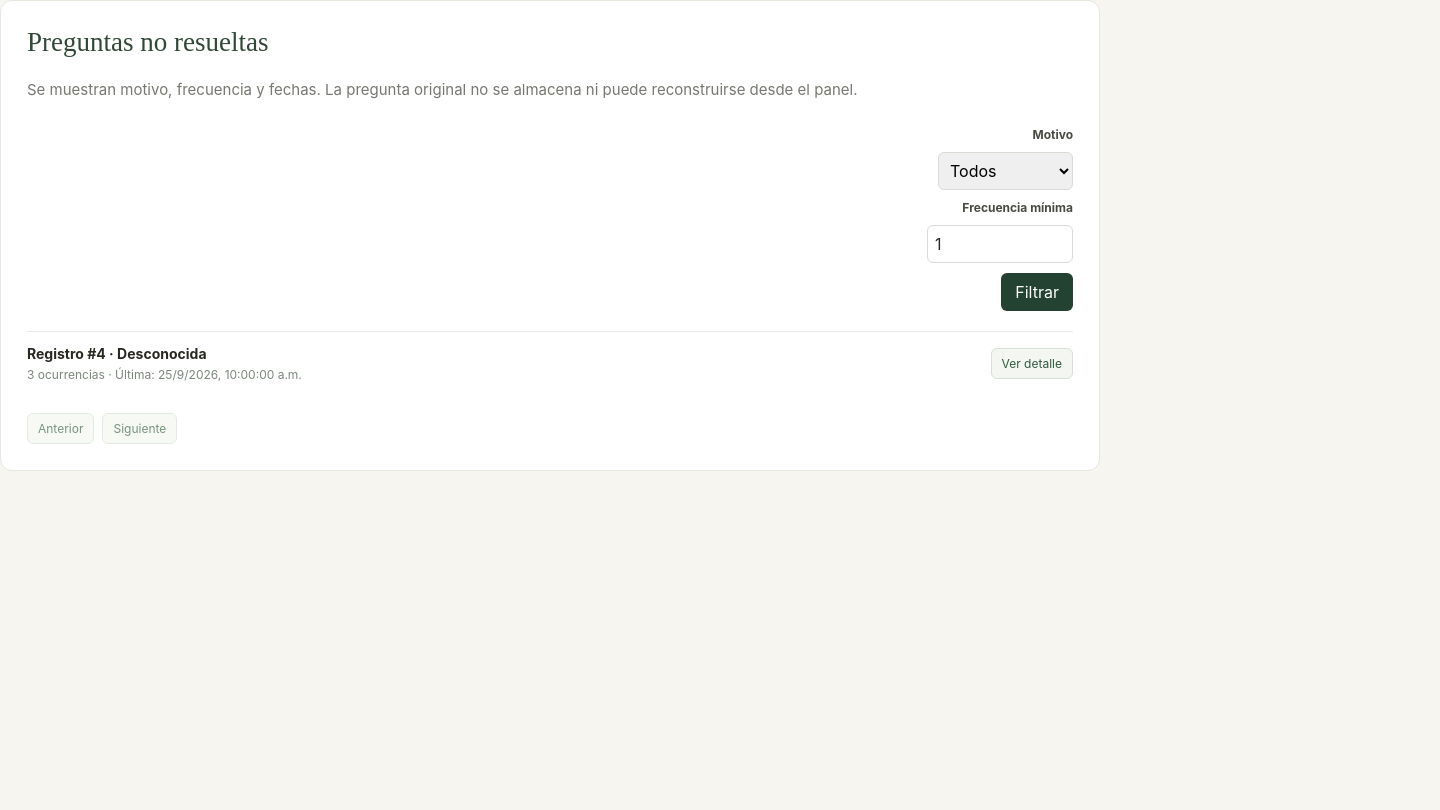
Test: permite resolver una FAQ solo al editor y limpia la pregunta del formulario
The width and height of the screenshot is (1440, 810).
Expected: the text "Registro #4 · Desconocida" is shown, [27, 345, 206, 362]
Click the button "Ver detalle" at (1032, 364), box [991, 348, 1073, 379]
(page scrolled)
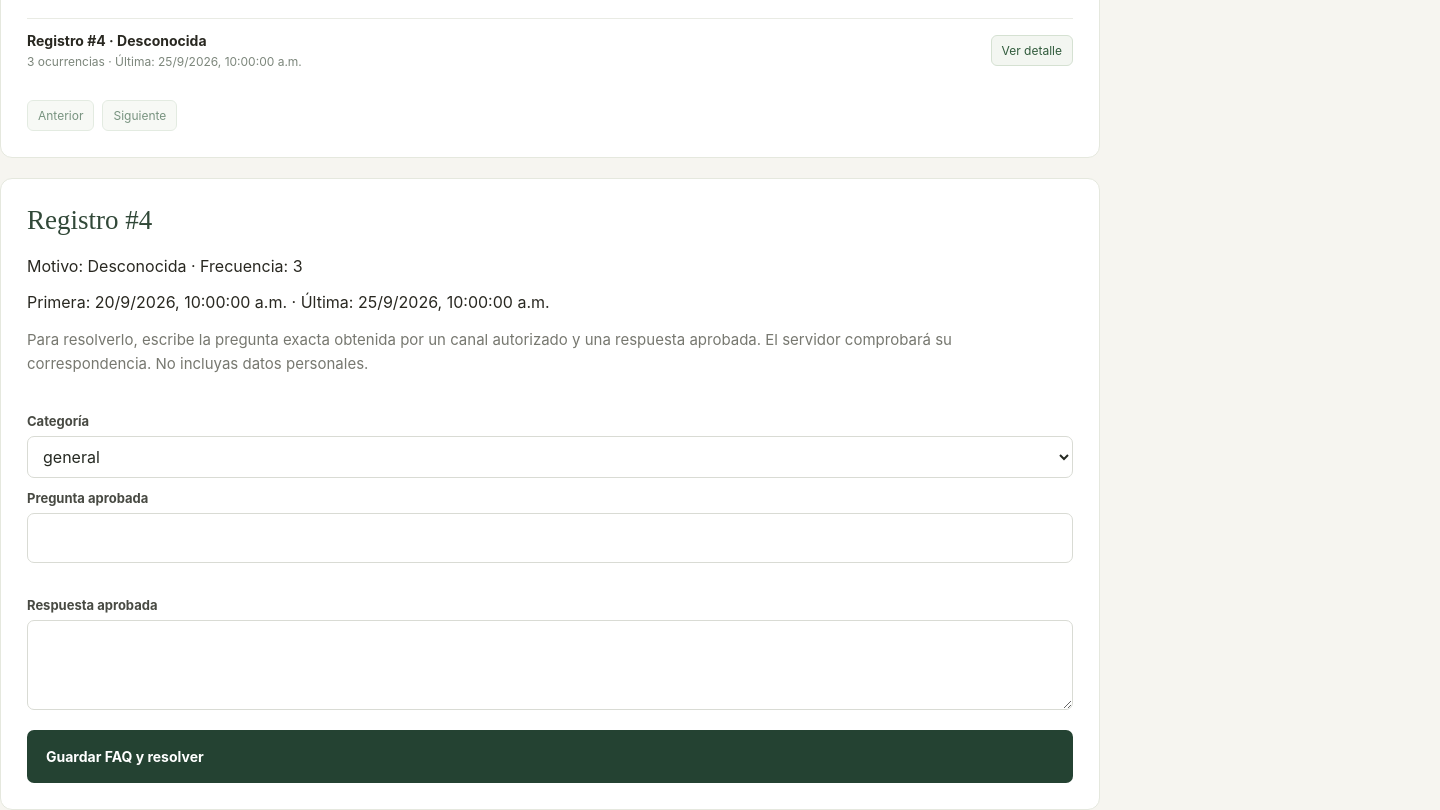
Expected: the button "Guardar FAQ y resolver" is shown, [27, 730, 1073, 783]
Type "¿Aceptan vales?" into the field labelled "Pregunta aprobada" at (550, 538), box [27, 513, 1073, 563]
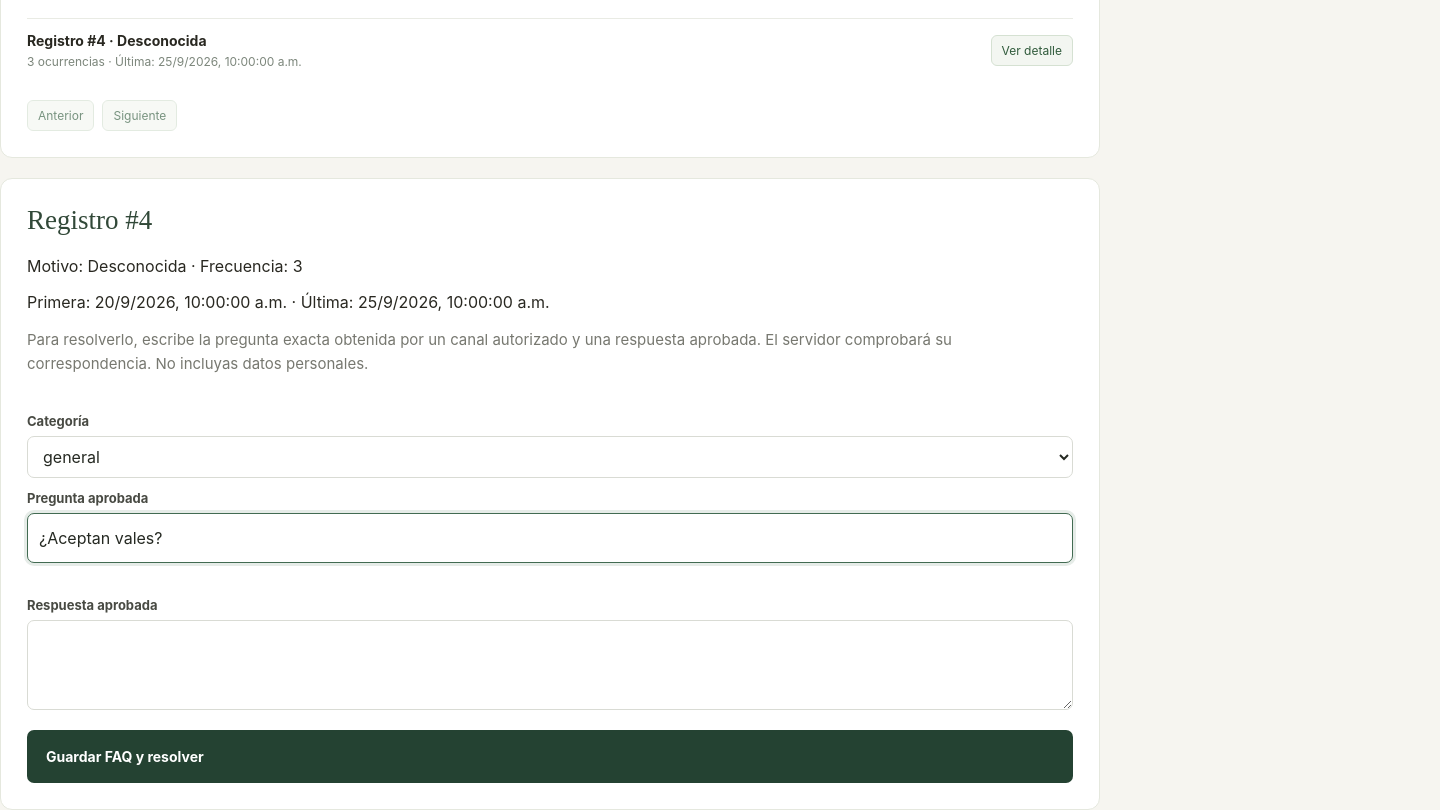
Type "Sí, aceptamos vales." into the text box labelled "Respuesta aprobada" at (550, 665), box [27, 620, 1073, 710]
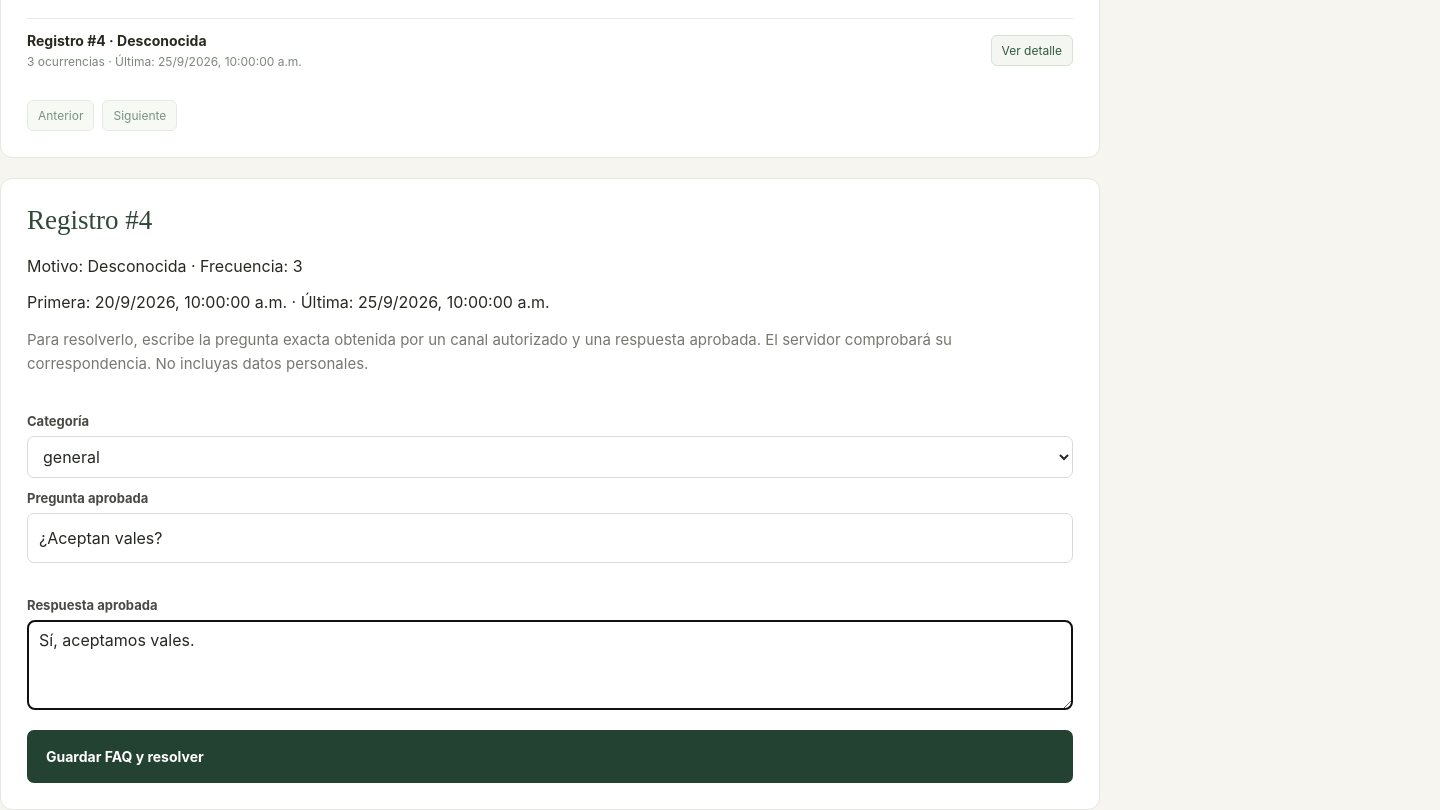
Click the button "Guardar FAQ y resolver" at (125, 756), box [27, 730, 1073, 783]
(page scrolled)
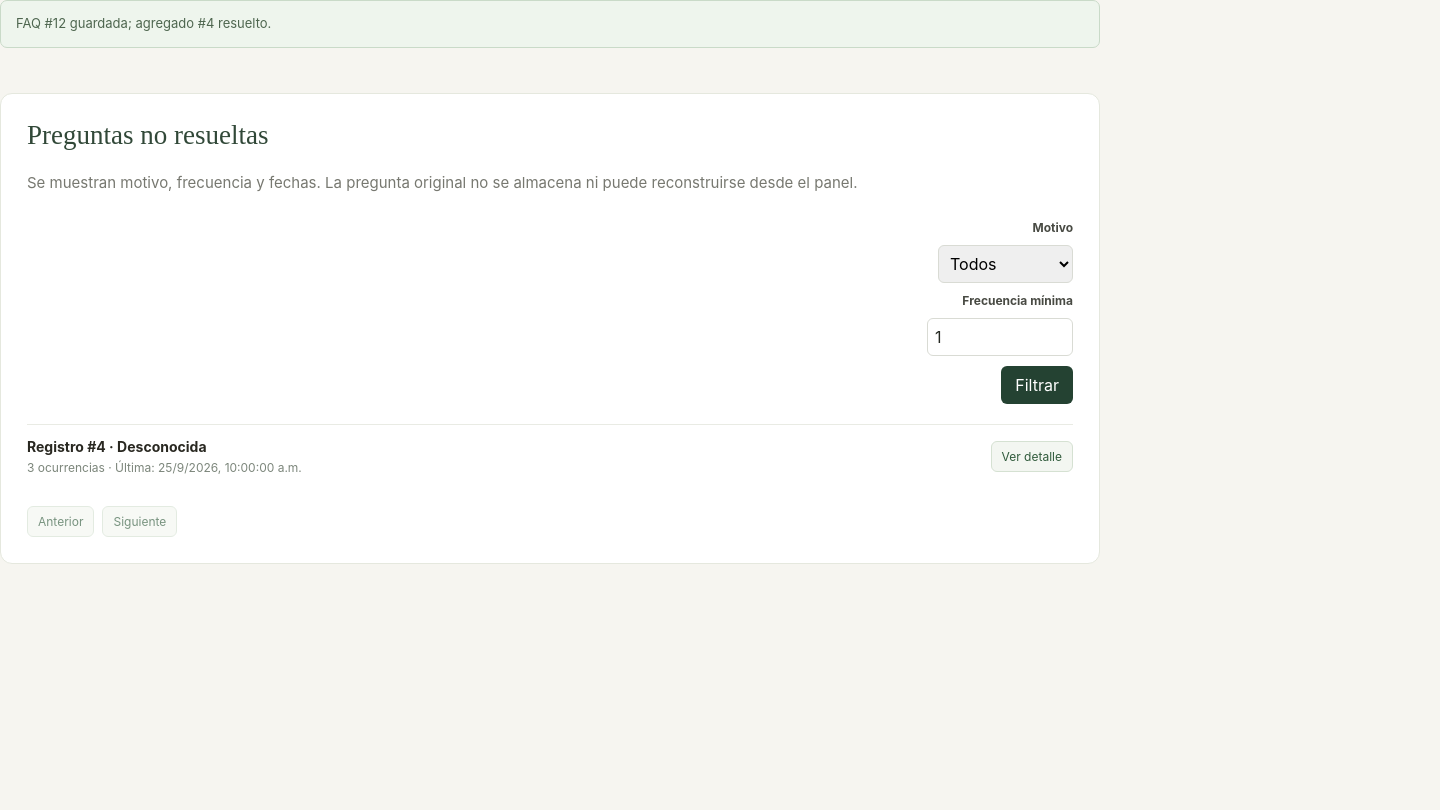
Expected: the text "FAQ #12 guardada; agregado #4 resuelto." is shown, [0, 0, 1100, 48]
Expected: the label labelled "Pregunta aprobada" is gone
